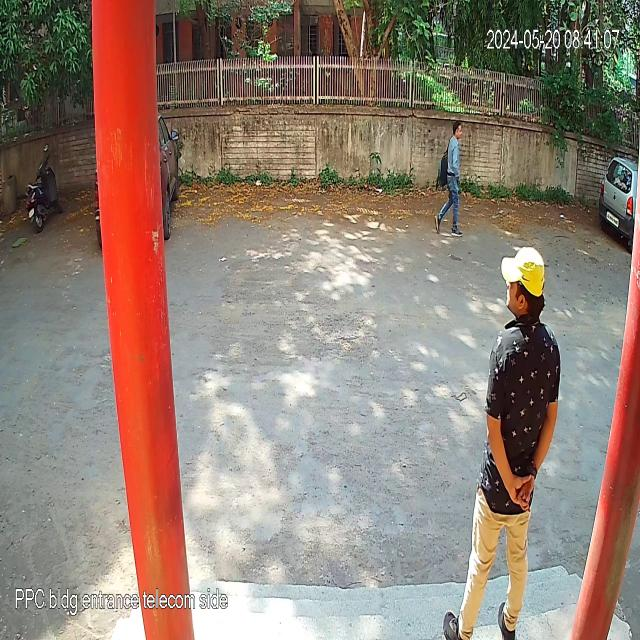no-safety-helmet: (498, 240, 555, 326), (451, 118, 464, 143)
no-safety-shoes: (494, 600, 520, 640), (442, 609, 471, 640), (450, 221, 464, 239), (432, 215, 444, 235)
person: (444, 247, 562, 638), (436, 123, 464, 237)
